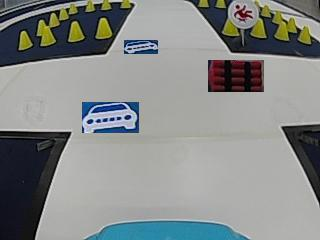cone: (67, 21, 84, 42), (95, 17, 111, 39), (221, 18, 238, 36), (251, 19, 266, 38), (274, 21, 288, 41), (40, 26, 54, 46), (18, 30, 31, 50), (298, 25, 310, 44), (36, 18, 45, 35), (49, 12, 59, 27), (287, 16, 296, 32), (68, 2, 78, 15), (59, 7, 68, 21), (85, 0, 95, 12), (261, 4, 270, 17), (101, 0, 111, 10), (120, 0, 130, 8), (215, 0, 225, 8), (198, 0, 209, 7)
tumble: (230, 1, 257, 26)
